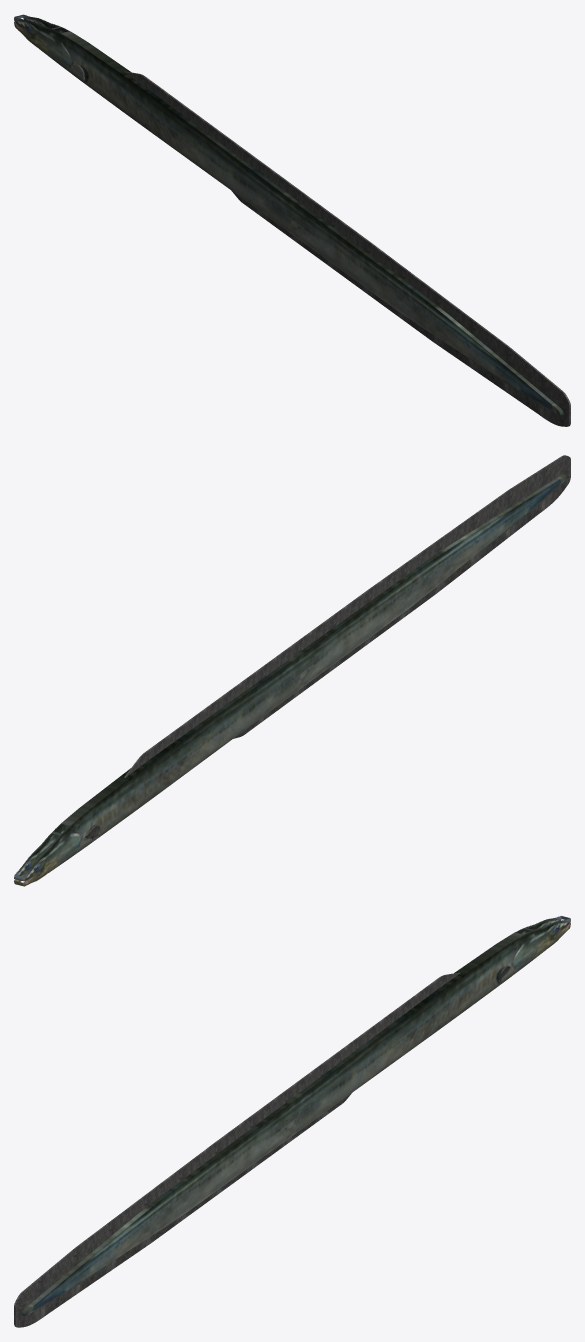
Rendered from eel.fbx.
3 views of the same model, one above another, from view 1: azimuth 30°, elevation 25°; view 2: azimuth 150°, elevation 25°; view 3: azimuth 330°, elevation 25° (orthographic).
Parts seen in each view (by area): view 1: Line001, Line002; view 2: Line001, Line002; view 3: Line001, Line002.
Boxes of the visible parts, x1,y1,x2,y2 form: Line001: (14,14,563,415); Line002: (124,71,570,426); Line001: (14,474,568,886); Line002: (124,455,570,777); Line001: (21,916,570,1316); Line002: (14,972,460,1327).
Size of the model in its own units: 11.43 by 33.79 by 625.
Materials: 2 (2 with a texture image).
